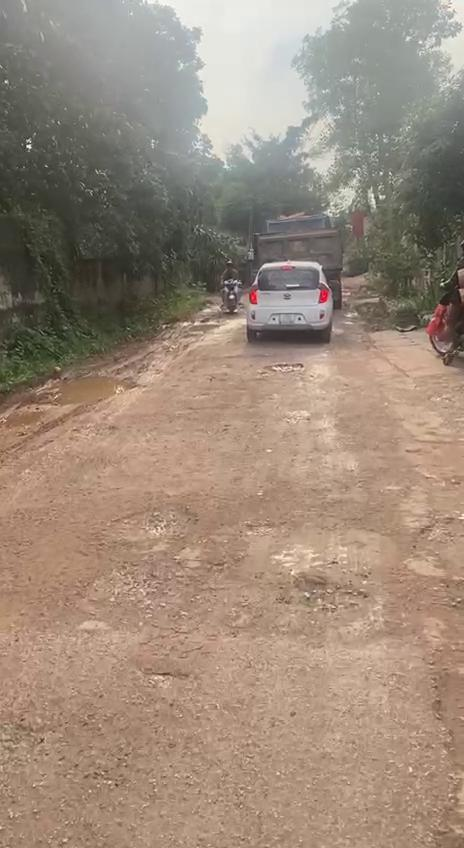pothole: (198, 524, 368, 640), (414, 518, 464, 848), (76, 559, 186, 638), (100, 500, 202, 547), (40, 372, 136, 409), (0, 409, 43, 432), (259, 360, 308, 376)
